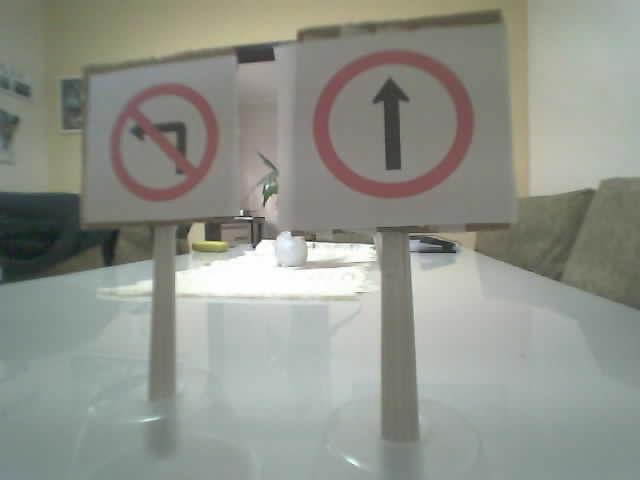R-26_frente: (312, 49, 470, 197)
R-4a_proibido-esquerda: (109, 82, 218, 200)
